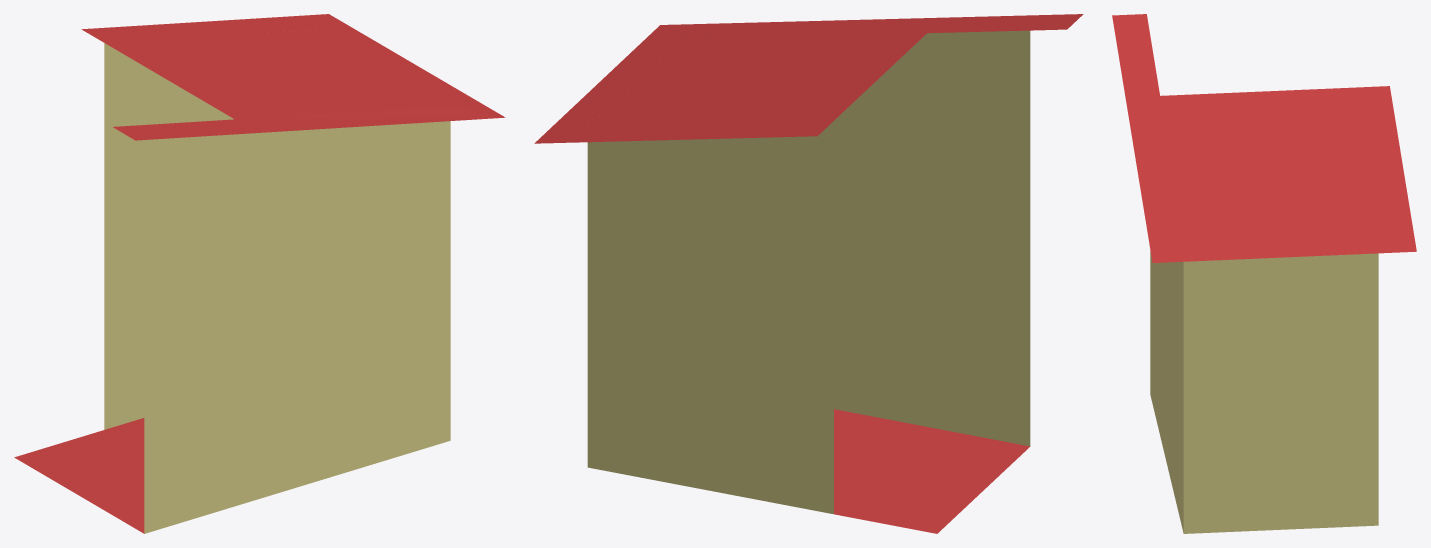
3 views of the same model, side by side, from view 1: azimuth 30°, elevation 25°; view 2: azimuth 150°, elevation 25°; view 3: azimuth 270°, elevation 25° (orthographic). The views are drawn at different scales.
Size of the model in its own units: 5.76 by 4.37 by 5.79.
